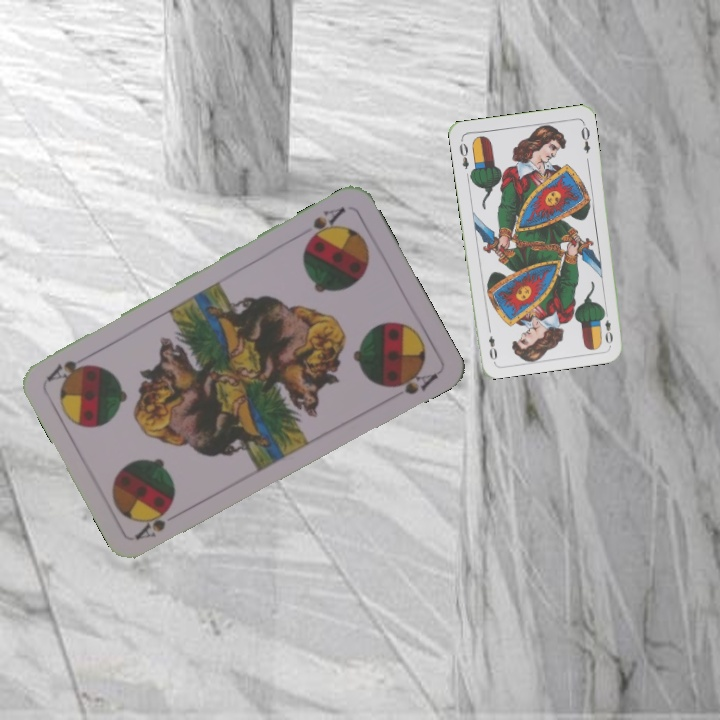EO: (599, 306, 615, 346), (455, 136, 471, 172)
SA: (301, 203, 348, 246), (131, 503, 175, 543)
